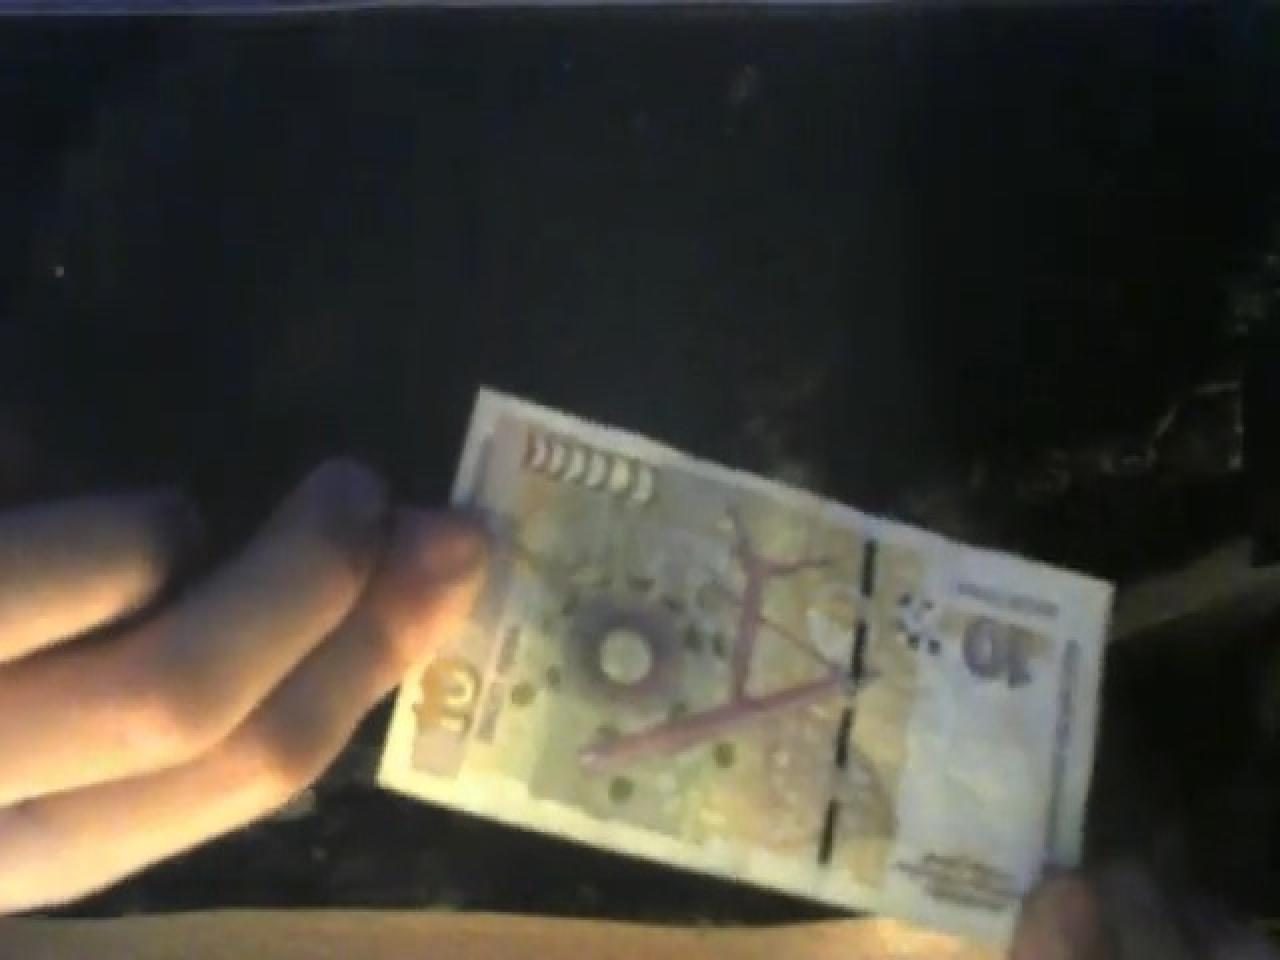10leva: (378, 381, 1118, 928)
